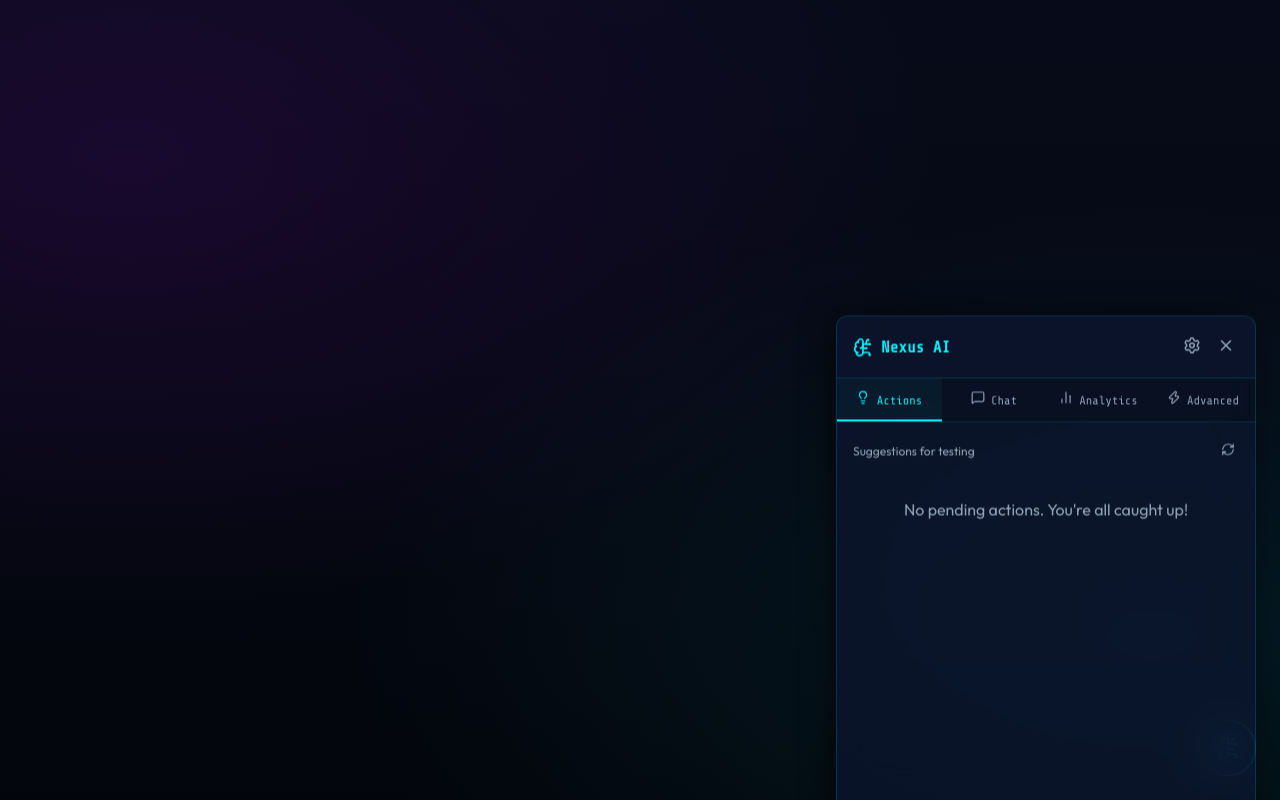
AIAssistantApplet Component › switches between Actions, Chat, Analytics, and Advanced tabs
(page scrolled)
Click the button "Chat". click: (994, 400)
box: [942,378,1046,421]
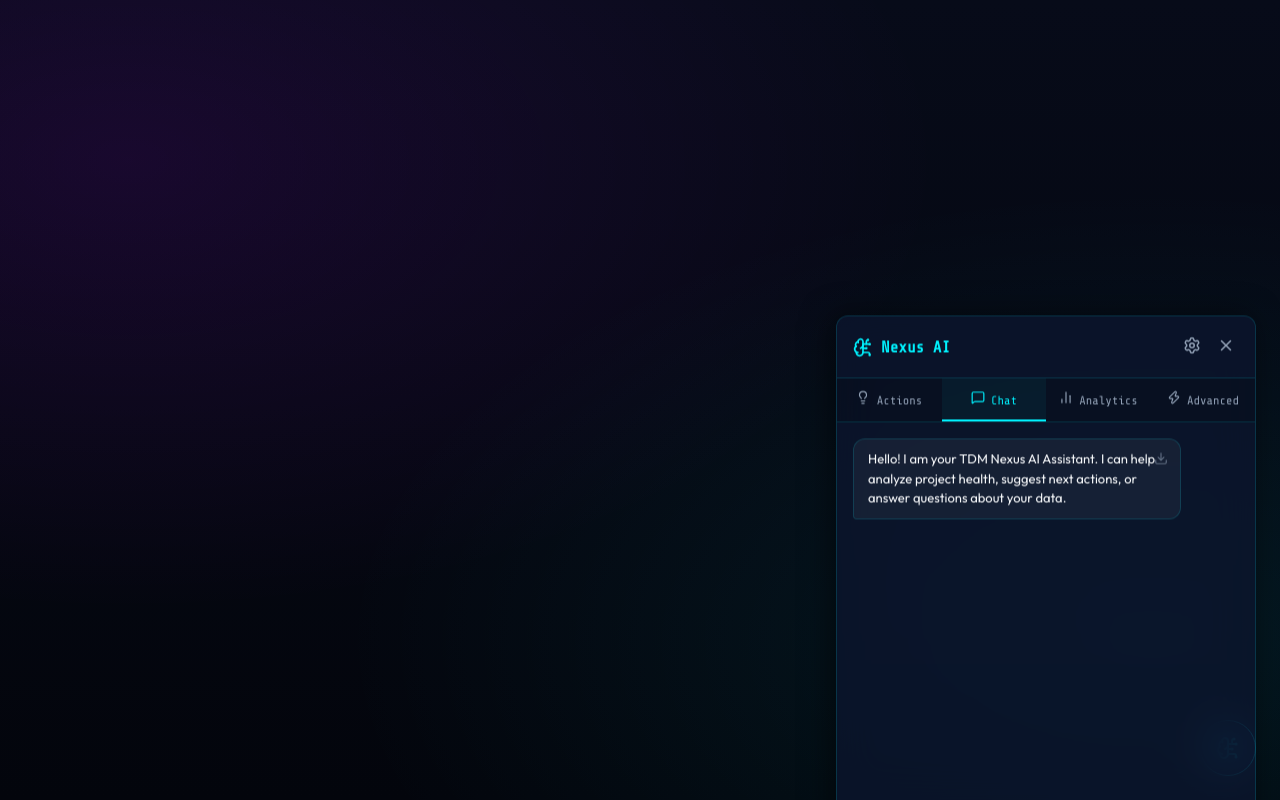
Click the button "Analytics". click: (1098, 400)
box: [1046,378,1150,421]
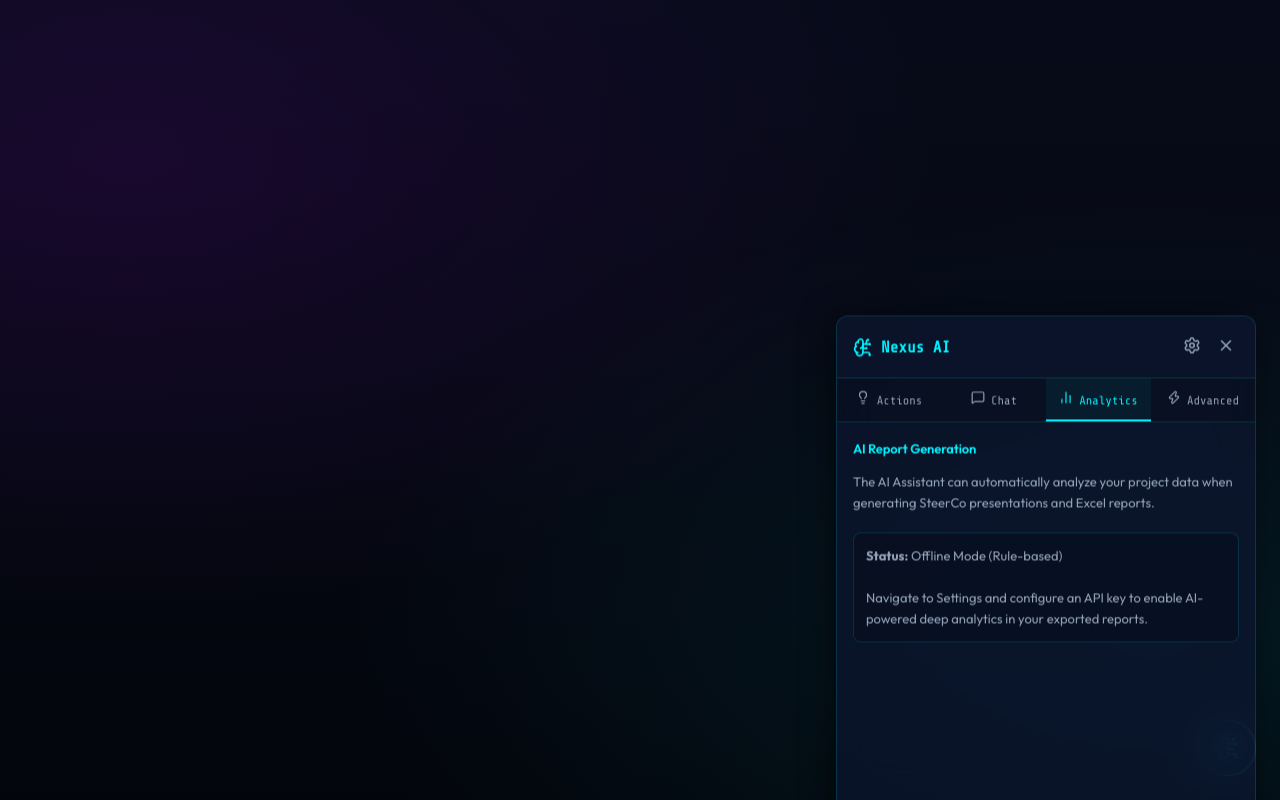
Expected: the heading "AI Report Generation" is shown, [853,440,976,456]
Click the button "Advanced". click: (1203, 400)
box: [1150,378,1255,421]
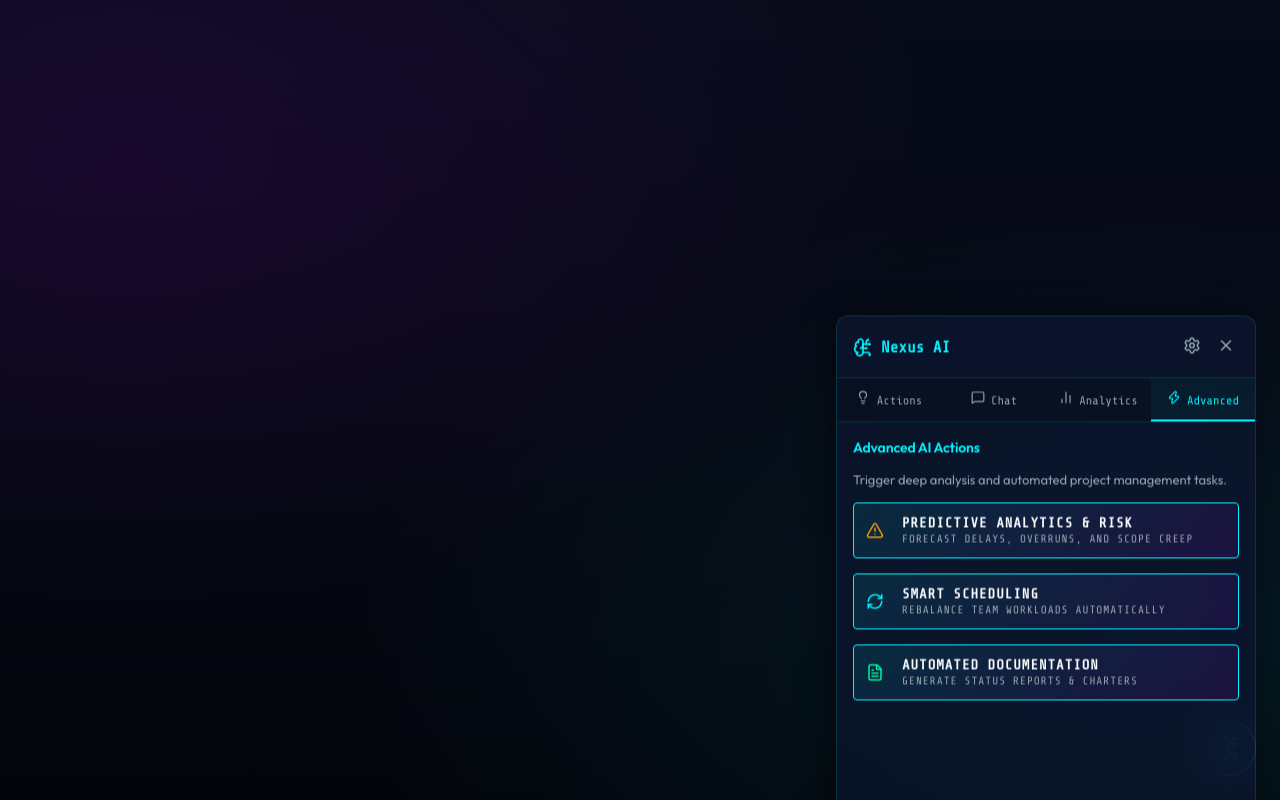
Expected: the text "Predictive Analytics & Risk" is shown, [902,515,1133,530]
